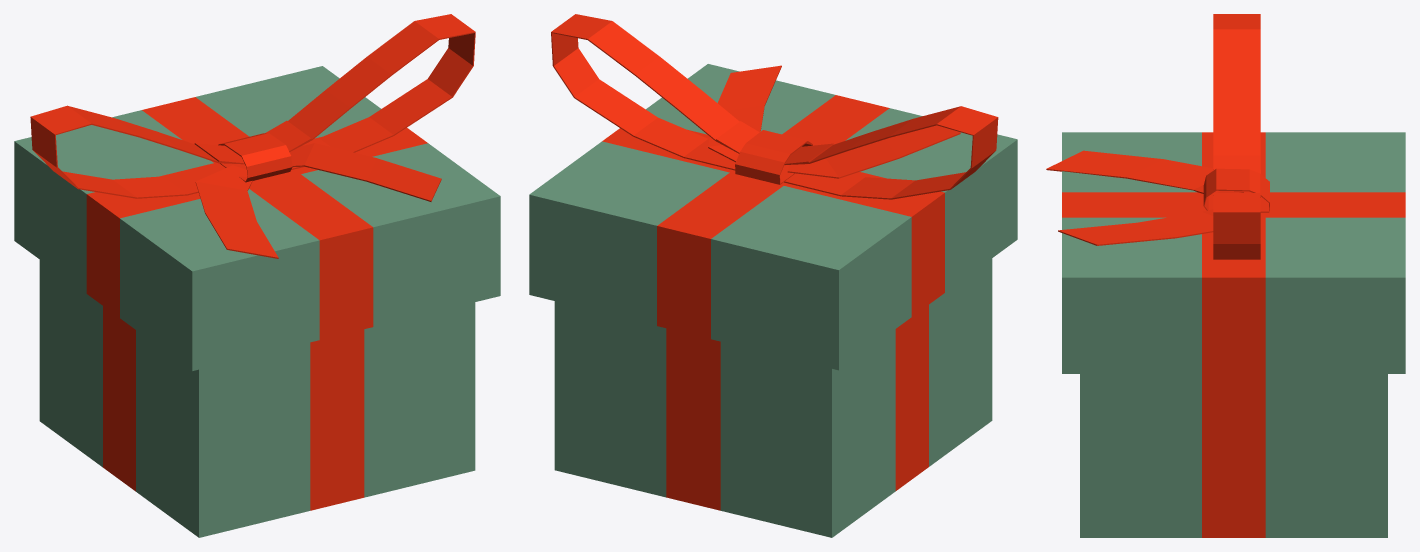
Rendered from Gift Half .fbx.
The picture shows the model from 3 angles, left to right: view 1: azimuth 30°, elevation 25°; view 2: azimuth 150°, elevation 25°; view 3: azimuth 270°, elevation 25°; orthographic projection. The views are drawn at different scales.
Visible parts, largest first — view 1: Cube.001, Cube, Cube.002, Cube.003, Plane.004, Plane.002; view 2: Cube.001, Cube, Cube.002, Cube.003, Plane.004, Plane.002; view 3: Cube.002, Cube.003, Cube.001, Plane.002, Plane.004.
Boxes of the visible parts, <box> form: Cube.001: <box>14,103,346,370</box>; Cube: <box>39,260,337,537</box>; Cube.002: <box>169,66,500,333</box>; Cube.003: <box>337,302,475,503</box>; Plane.004: <box>242,14,475,201</box>; Plane.002: <box>30,105,278,258</box>; Cube.001: <box>684,101,1017,370</box>; Cube: <box>693,258,992,537</box>; Cube.002: <box>529,64,862,332</box>; Cube.003: <box>554,301,693,503</box>; Plane.004: <box>551,14,784,179</box>; Plane.002: <box>757,106,998,199</box>; Cube.002: <box>1062,205,1405,373</box>; Cube.003: <box>1080,374,1387,537</box>; Cube.001: <box>1062,132,1405,204</box>; Plane.002: <box>1046,14,1269,201</box>; Plane.004: <box>1058,179,1269,259</box>.
Size of the model in its own units: 305 by 258 by 234.
